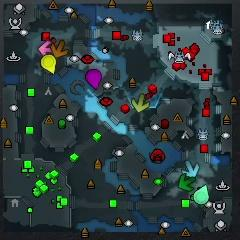p2: (194, 184, 209, 206)
p3: (85, 69, 103, 91)
p4: (40, 54, 56, 73)
x1: (38, 39, 52, 56)
x2: (131, 94, 149, 113)
x3: (183, 158, 199, 178)
x4: (177, 174, 196, 191)
x5: (50, 39, 67, 58)
